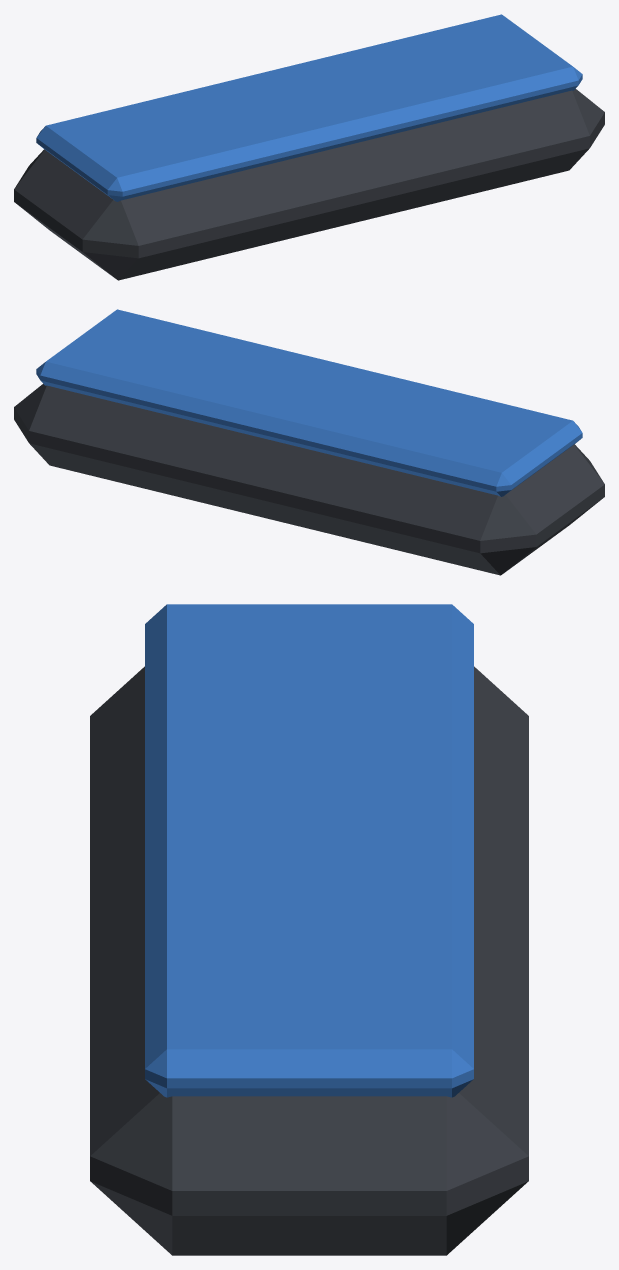
Rendered from prop_keyboardsmash_p1.glb.
The picture shows the model from 3 angles, top to bottom: view 1: azimuth 30°, elevation 25°; view 2: azimuth 150°, elevation 25°; view 3: azimuth 270°, elevation 25°; orthographic projection. The views are drawn at different scales.
Parts seen in each view (by area): view 1: prop_keyboardsmash_p1_mesh; view 2: prop_keyboardsmash_p1_mesh; view 3: prop_keyboardsmash_p1_mesh.
Part boxes in pixels (x1,y1,x2,y2): prop_keyboardsmash_p1_mesh: (14,14,604,280); prop_keyboardsmash_p1_mesh: (14,309,604,575); prop_keyboardsmash_p1_mesh: (90,604,528,1255).
Bounding box in the file's own units: 0.22 × 0.042 × 0.08.
